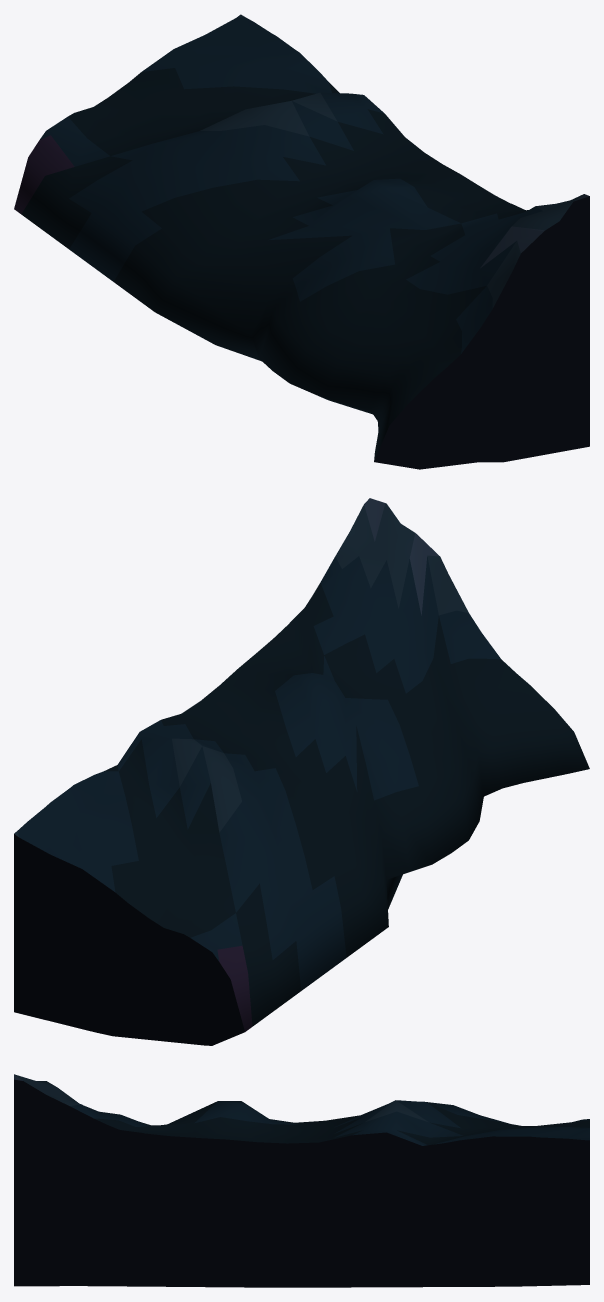
The model's file is newshn-77.glb.
3 views of the same model, one above another, from view 1: azimuth 30°, elevation 25°; view 2: azimuth 150°, elevation 25°; view 3: azimuth 270°, elevation 25° (orthographic). The views are drawn at different scales.
Parts seen in each view (by area): view 1: newshn-77; view 2: newshn-77; view 3: newshn-77.
Part boxes in pixels (x1=…): newshn-77: x1=14, y1=14, x2=589, y2=469; newshn-77: x1=14, y1=498, x2=589, y2=1045; newshn-77: x1=14, y1=1074, x2=589, y2=1287.
Size of the model in its own units: 0.875 by 0.9306 by 2.33.
